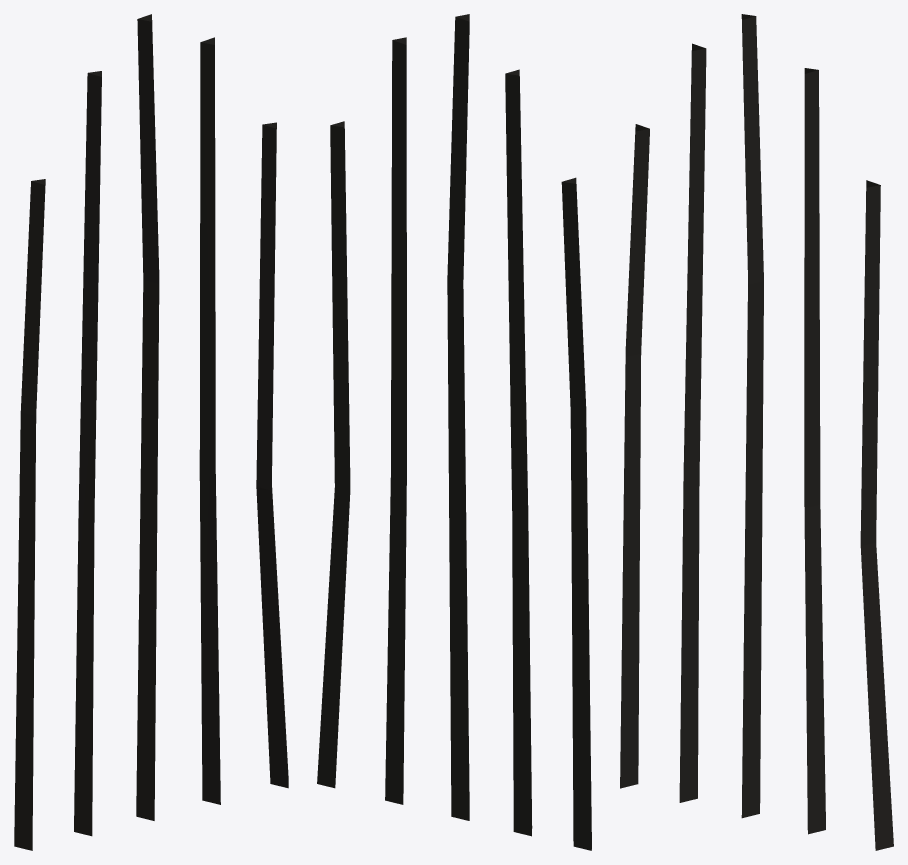
File: Large_Crypt_Gate.fbx
The picture shows the model from 3 angles, left to right: view 1: azimuth 30°, elevation 25°; view 2: azimuth 150°, elevation 25°; view 3: azimuth 330°, elevation 25°; orthographic projection.
Visible parts, largest first — view 1: Large_Crypt.001; view 2: Large_Crypt.001; view 3: Large_Crypt.001.
Boxes of the visible parts, bbox=[...] form: Large_Crypt.001: bbox=[14, 14, 288, 850]; Large_Crypt.001: bbox=[317, 14, 591, 850]; Large_Crypt.001: bbox=[620, 14, 893, 850].
Bounding box in the file's own units: 66.59 × 185 × 3.88.
Materials: 1 (1 with a texture image).
